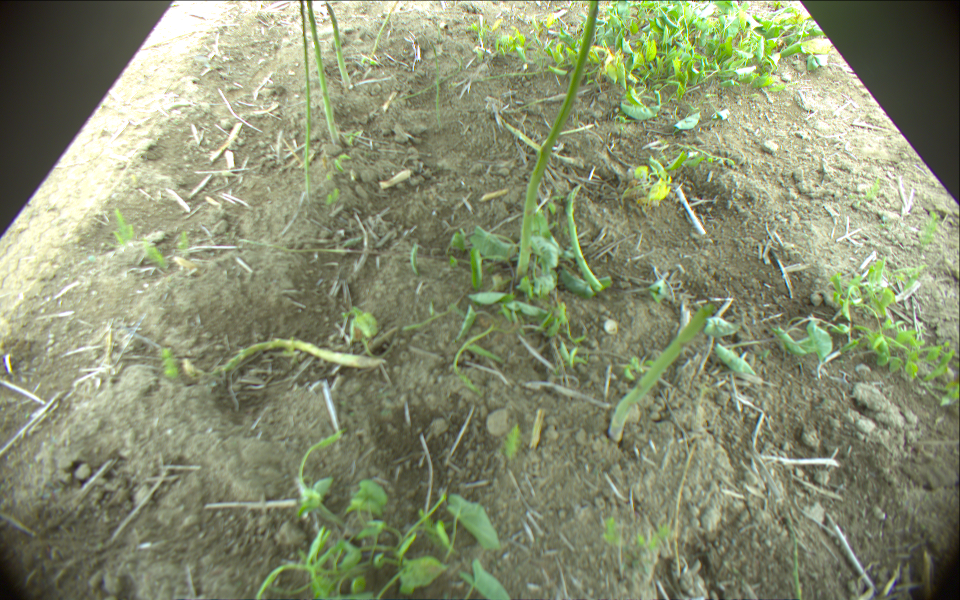aspa: (516, 1, 598, 280), (608, 303, 715, 442), (222, 338, 386, 375), (309, 1, 338, 145), (500, 117, 584, 166), (567, 184, 604, 292), (325, 1, 354, 89), (298, 1, 310, 197), (371, 1, 397, 59)
